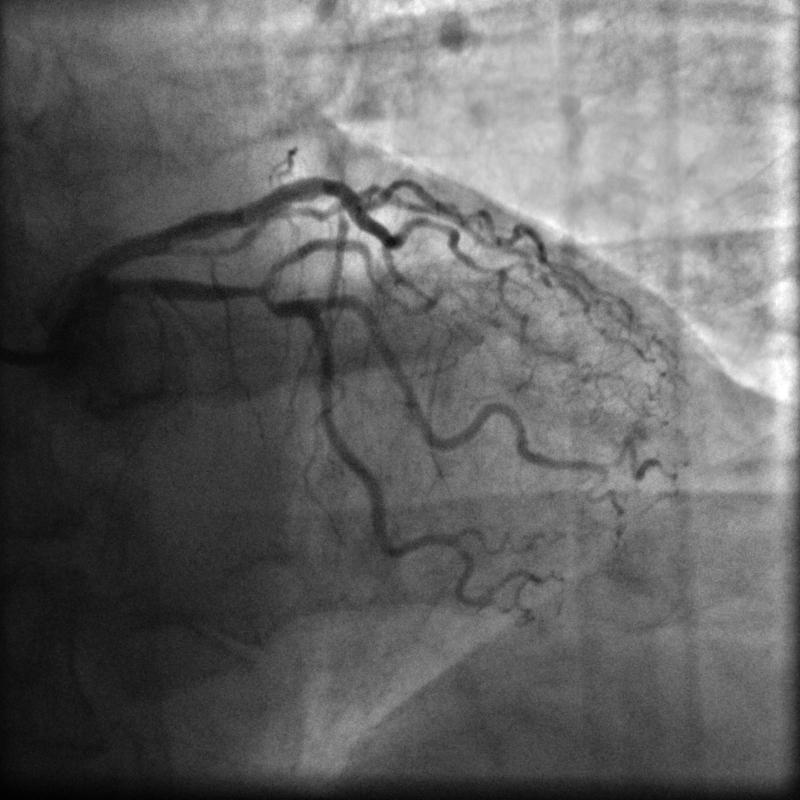Stenosis: (226, 278, 269, 305)
